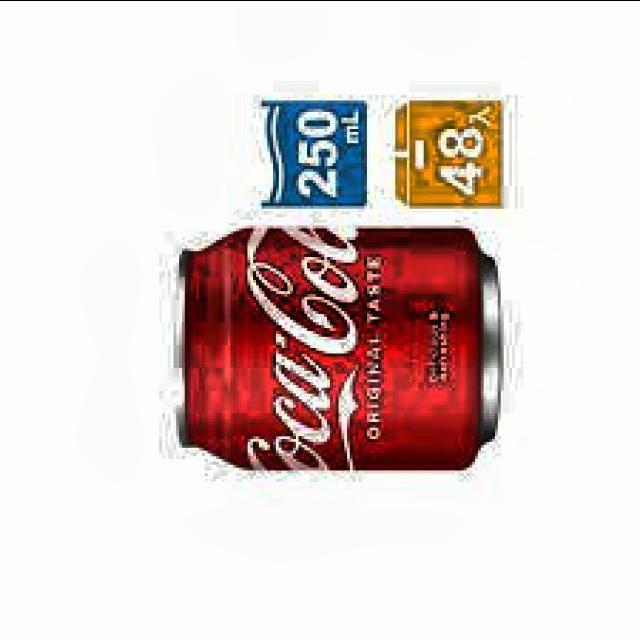litter: (165, 221, 520, 478)
